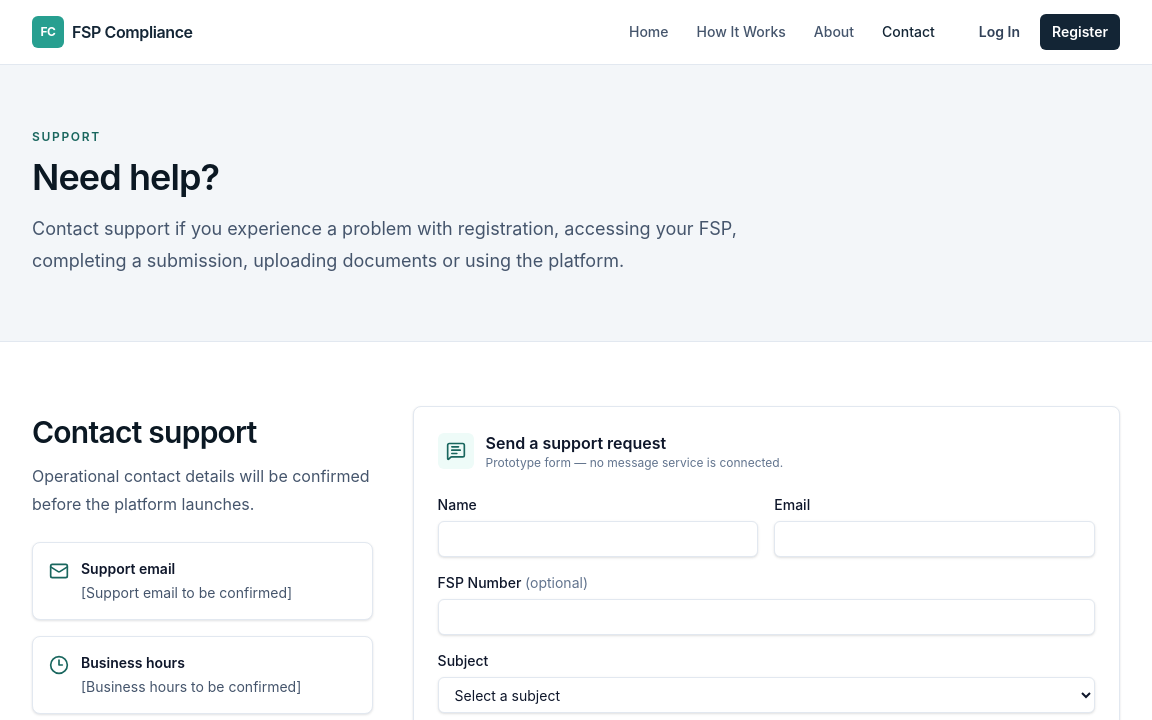
Test case: public website › shows an explicit prototype state after valid contact details
Type "Example User" into the field labelled "Name" at x=598, y=539, box x1=438 y1=521 x2=758 y2=557
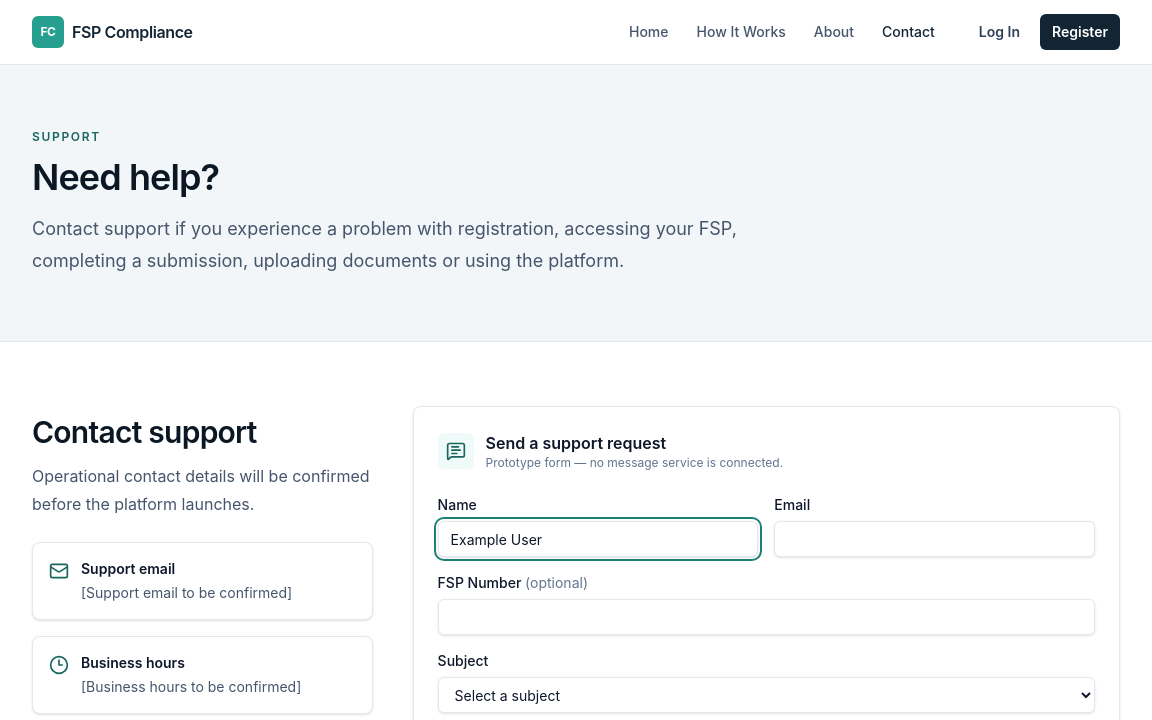
Type "user@example.co.za" into the field labelled "Email" at x=935, y=539, box x1=774 y1=521 x2=1095 y2=557
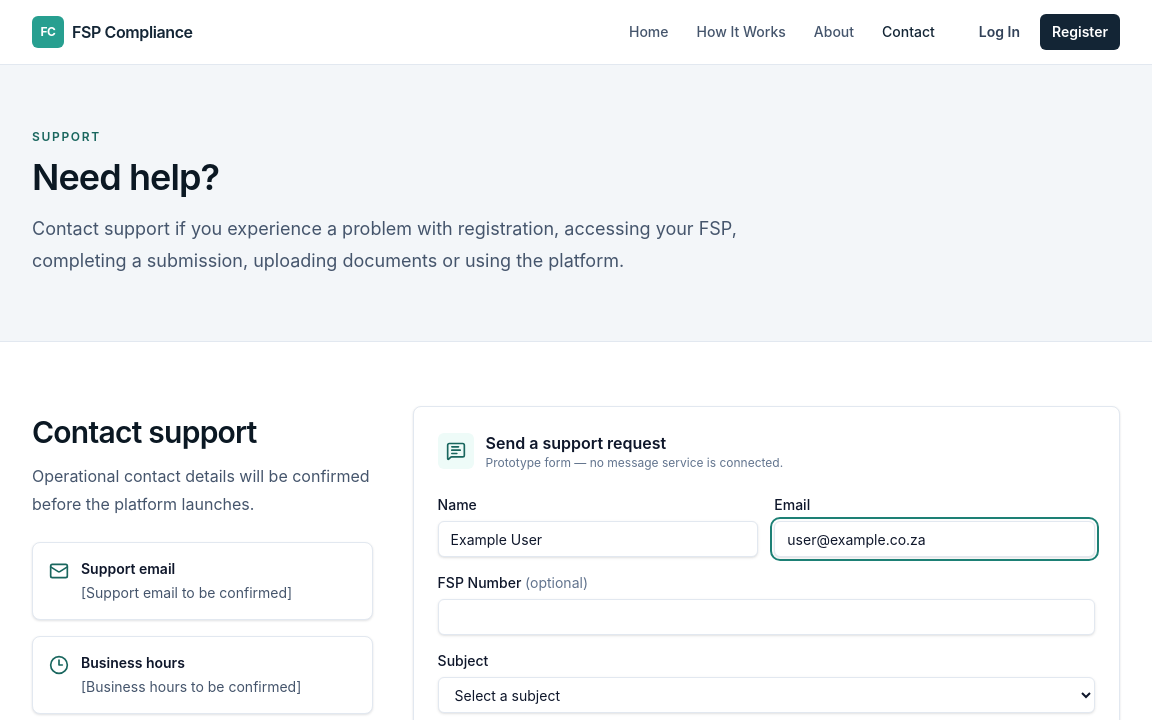
Select "Using the platform" in the dropdown labelled "Subject" at x=766, y=695, box x1=438 y1=677 x2=1095 y2=713
(page scrolled)
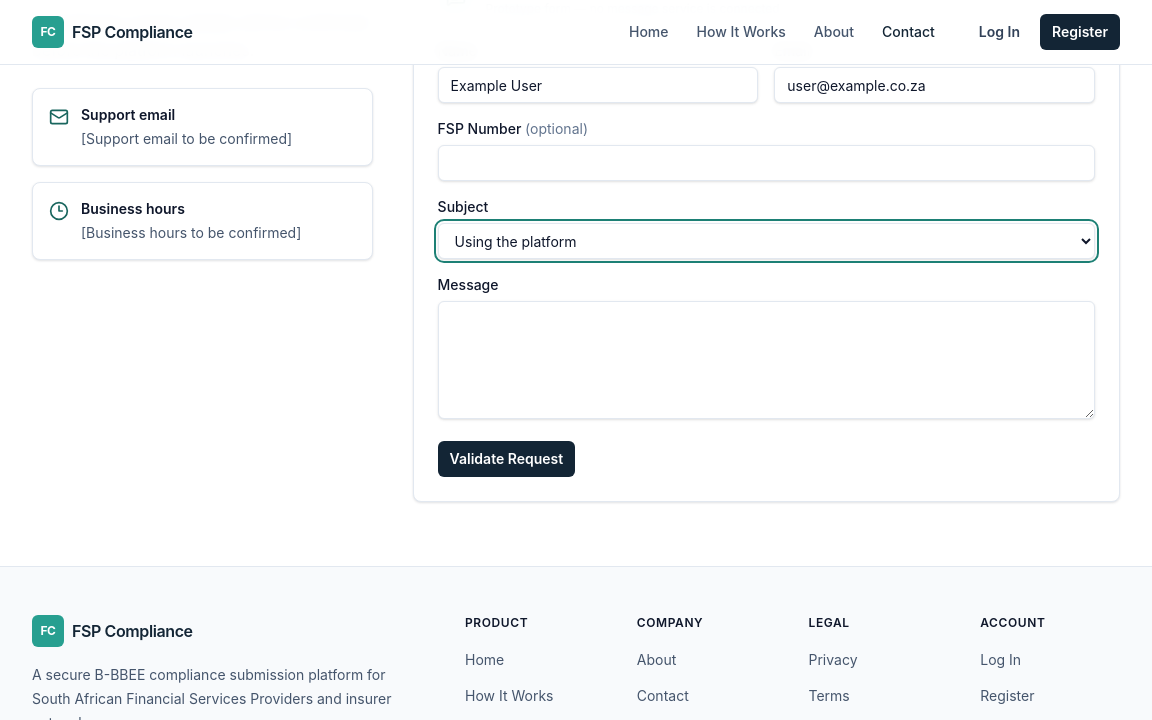
Type "I need help understanding how to use the platform." into the text box labelled "Message" at x=766, y=360, box x1=438 y1=301 x2=1095 y2=419
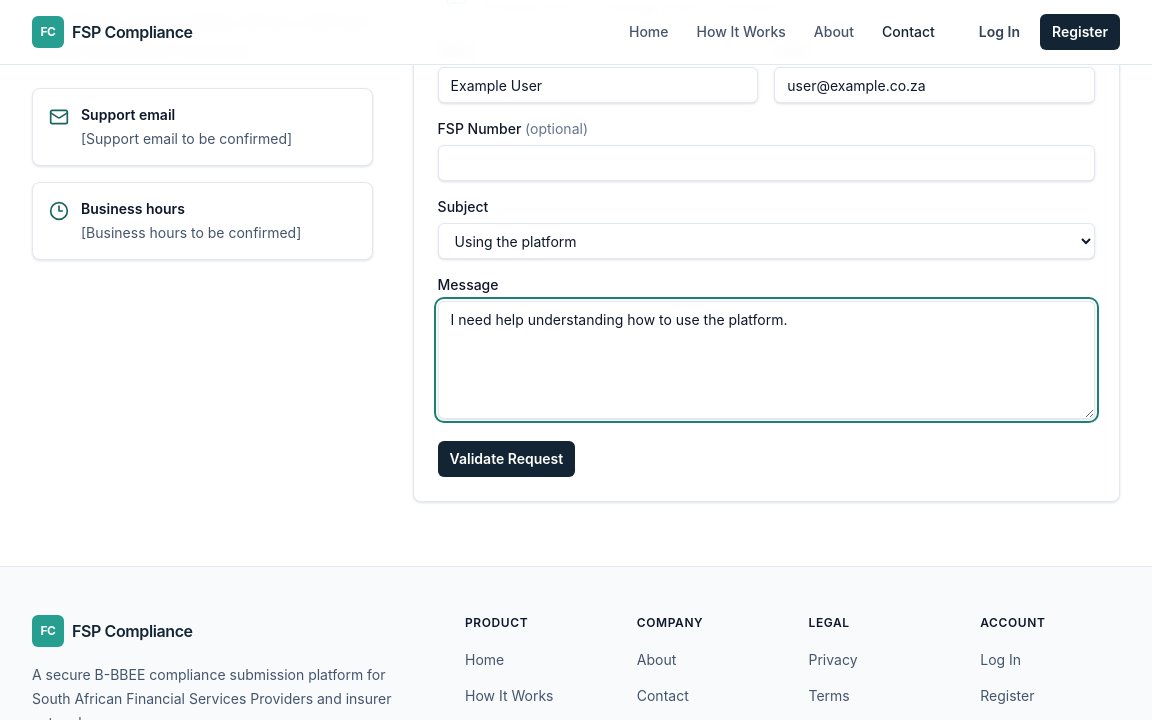
Click the button "Validate Request" at x=506, y=459, box x1=438 y1=441 x2=575 y2=477
(page scrolled)
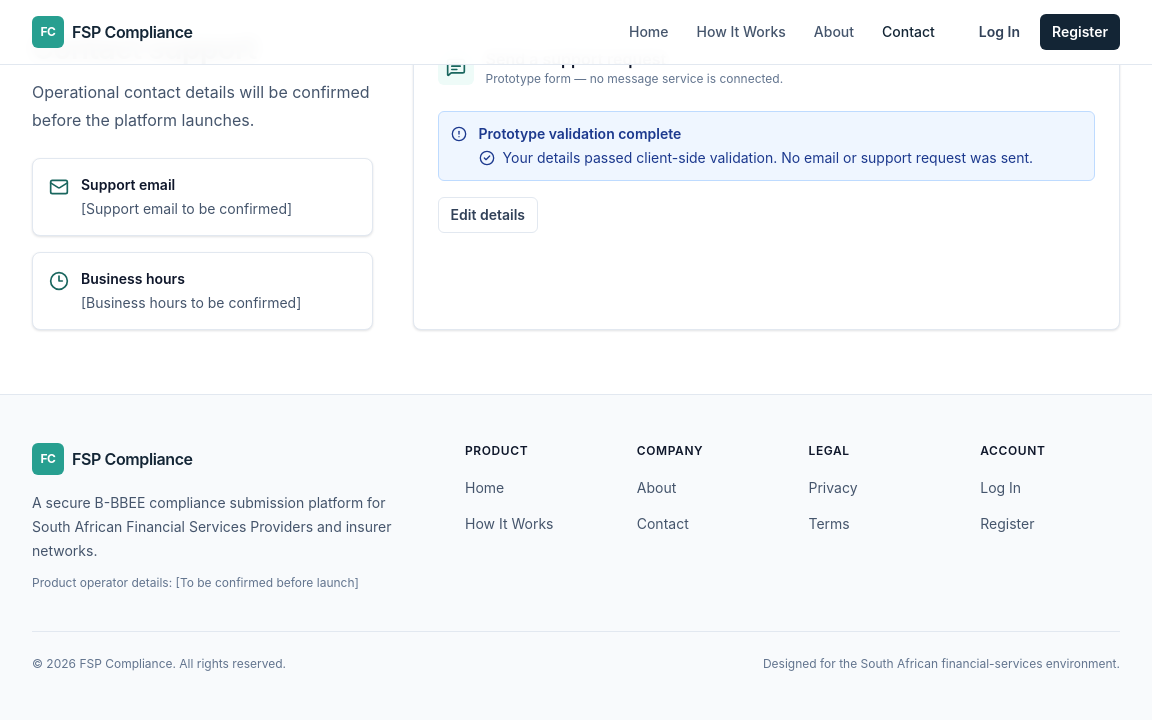
Check: the text "No email or support request was sent" is shown, box x1=503 y1=149 x2=1033 y2=166
